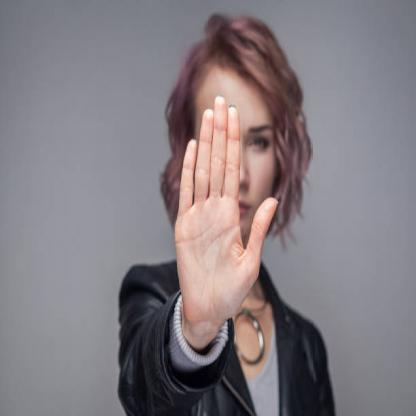stop: (170, 92, 280, 328)
